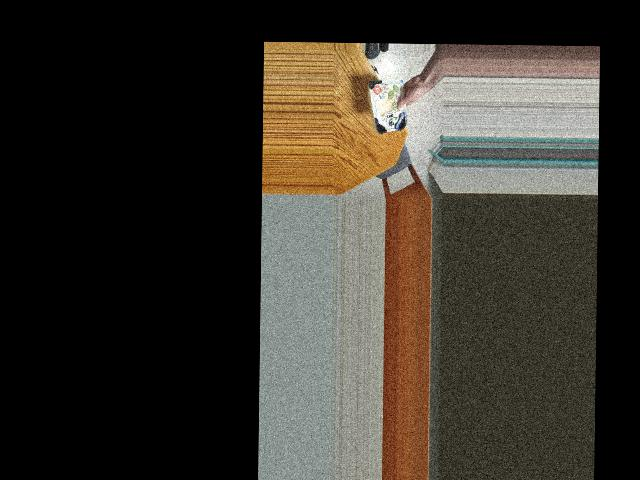cheese: (370, 86, 407, 135)
